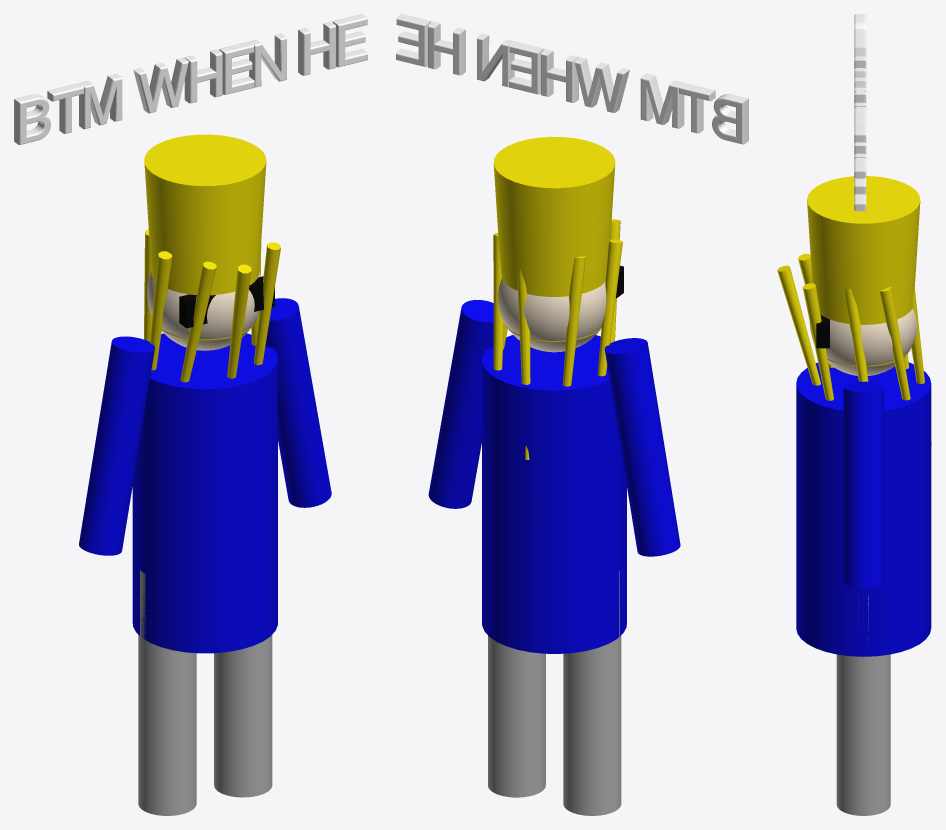
File: thats crazy.glb
The picture shows the model from 3 angles, left to right: view 1: azimuth 30°, elevation 25°; view 2: azimuth 150°, elevation 25°; view 3: azimuth 270°, elevation 25°; orthographic projection. The views are drawn at different scales.
Size of the model in its own units: 2.76 by 5.61 by 1.15.
